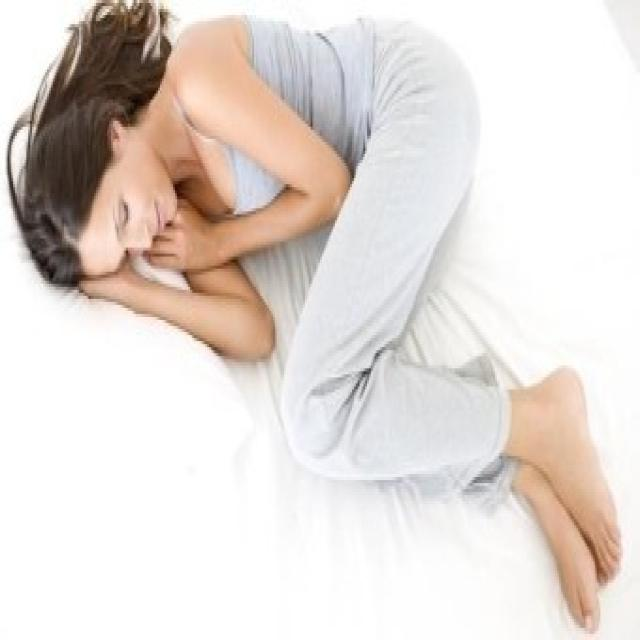sleeping-person: (8, 0, 635, 635)
